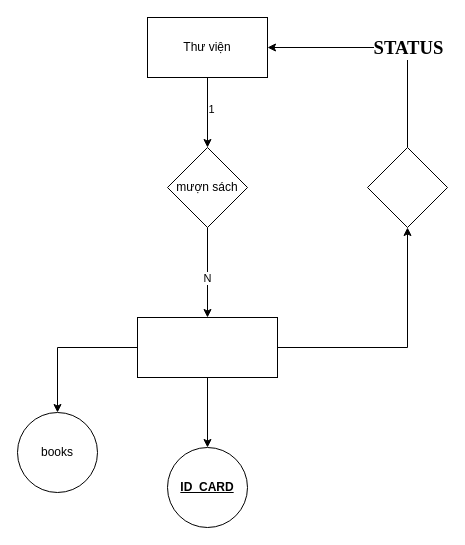
The diagram is 465 pixels wide and 545 high, and some of its shapes have lost their labels. The centre of each missing label's shape, as x and y in pixels:
"LOAN_CARDS" goes at (207,347).
"trả sách" goes at (407,187).
